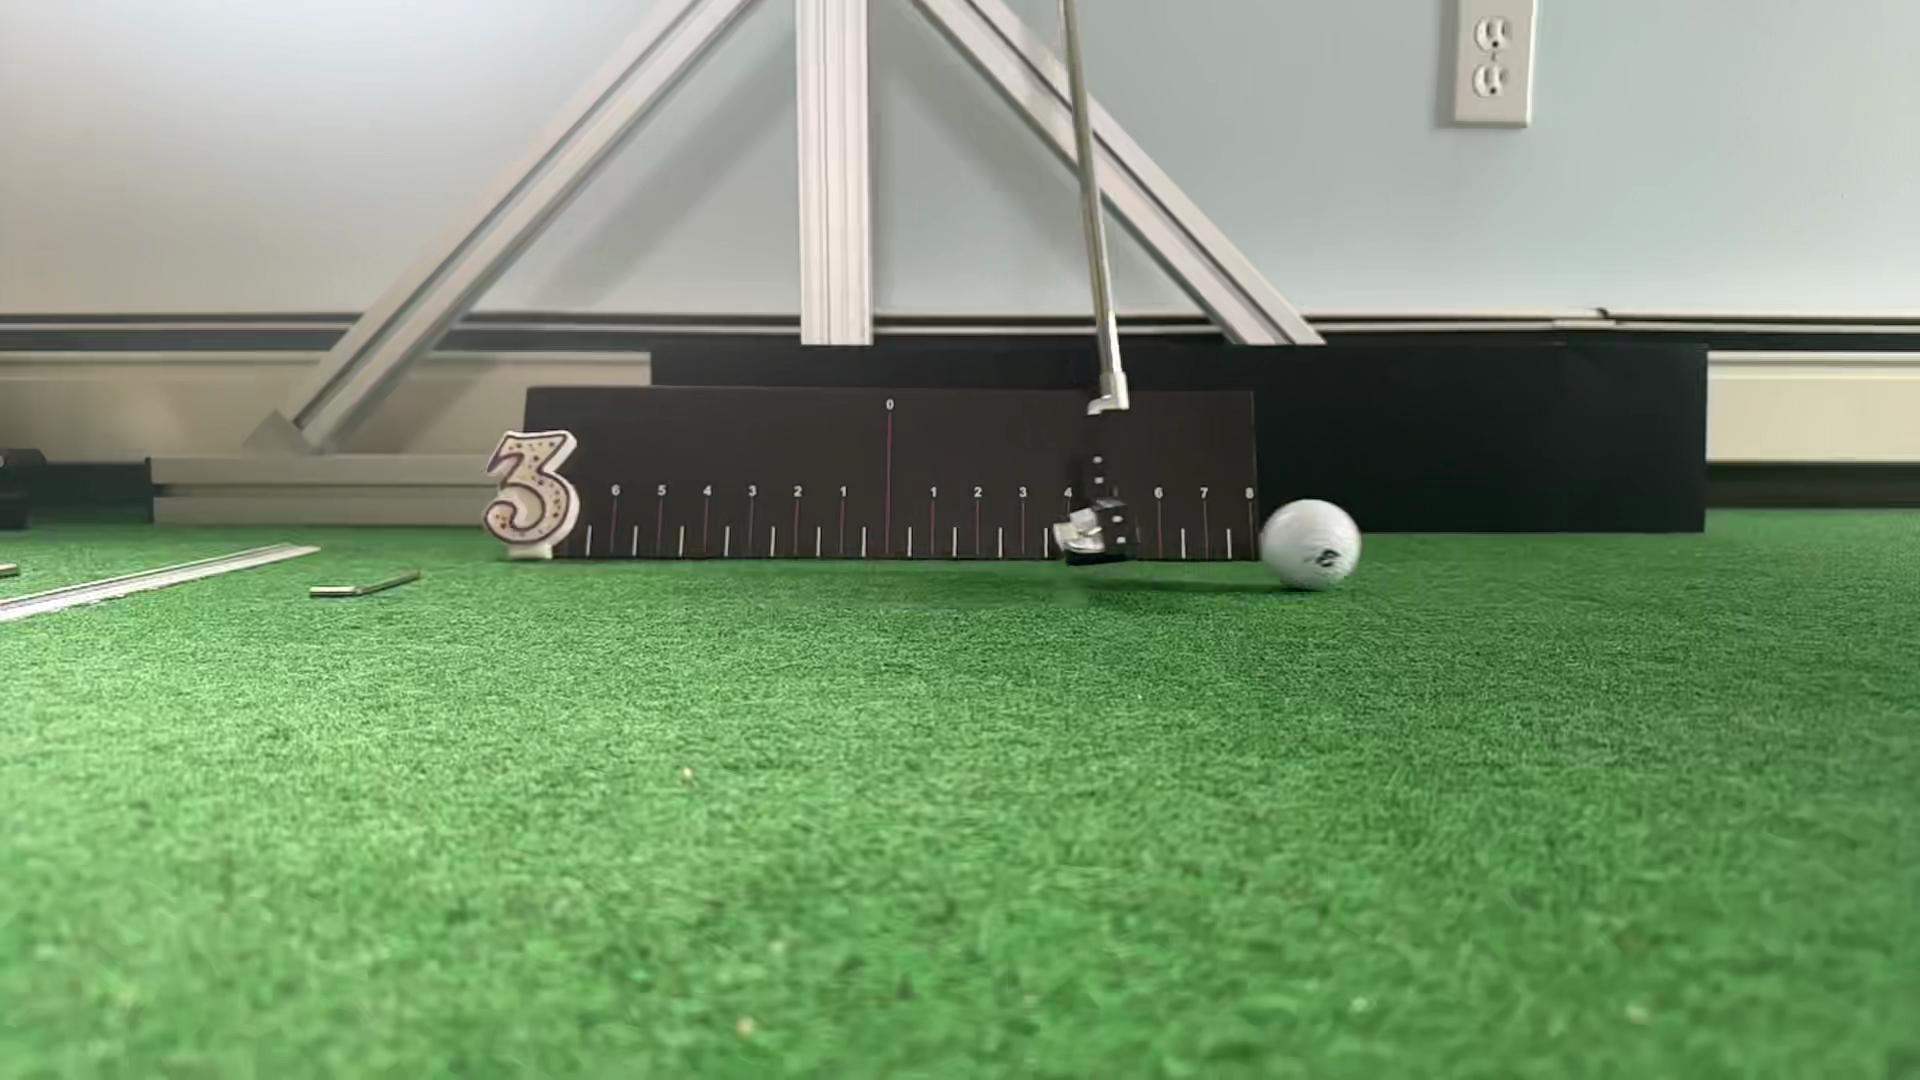golfball: (1262, 500, 1362, 590)
